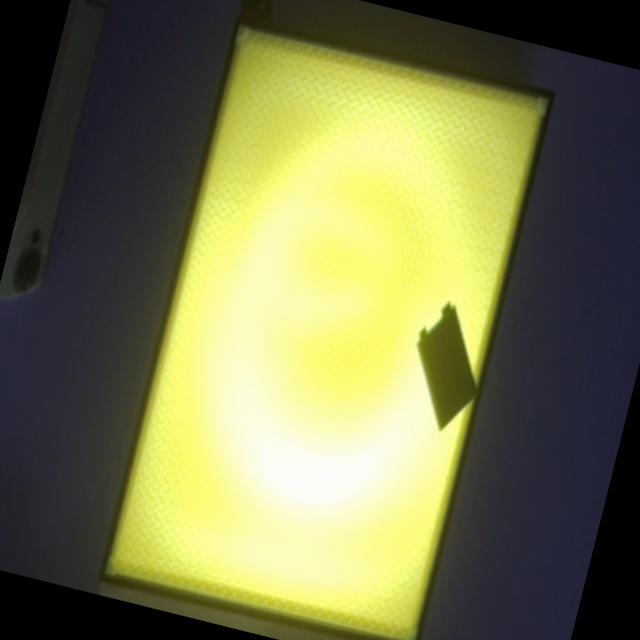bateria: (417, 300, 480, 430)
mesa: (95, 12, 556, 640)
